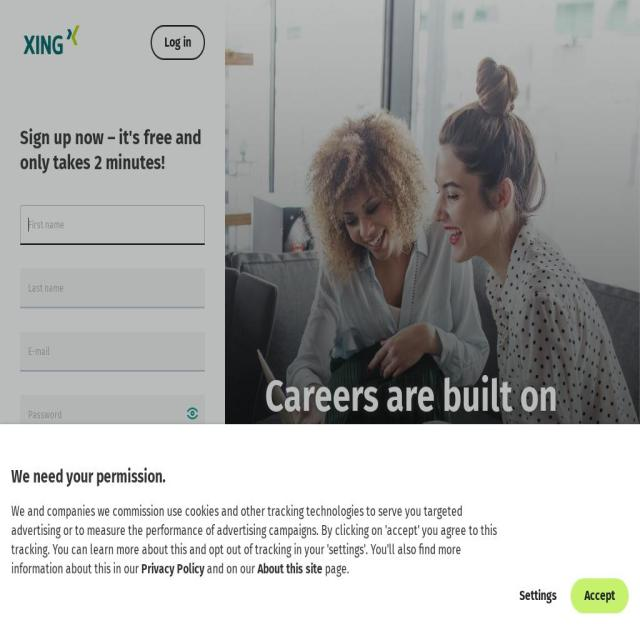button: (20, 508, 205, 544), (24, 2, 79, 76), (570, 578, 628, 614), (150, 25, 205, 60), (518, 578, 558, 614), (20, 472, 74, 488), (82, 456, 98, 471)
field: (20, 205, 205, 245), (20, 268, 205, 308), (20, 332, 205, 372), (20, 395, 205, 435)
heading: (264, 370, 598, 477), (264, 497, 598, 533), (11, 465, 506, 487), (20, 125, 205, 175)
image: (0, 0, 640, 640), (24, 2, 79, 76), (74, 582, 150, 614), (184, 404, 200, 424)
link: (258, 561, 322, 577), (142, 561, 204, 577)
text: (11, 503, 497, 577), (97, 456, 185, 470), (20, 456, 82, 470), (205, 561, 258, 577), (92, 518, 132, 534), (519, 588, 557, 604), (584, 588, 615, 604), (164, 34, 191, 51), (322, 561, 350, 577), (74, 472, 76, 487)
